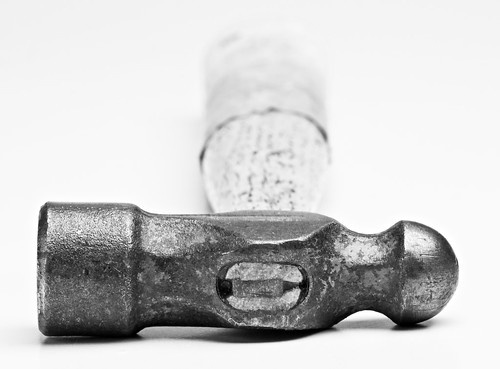hammer: (30, 35, 459, 339)
